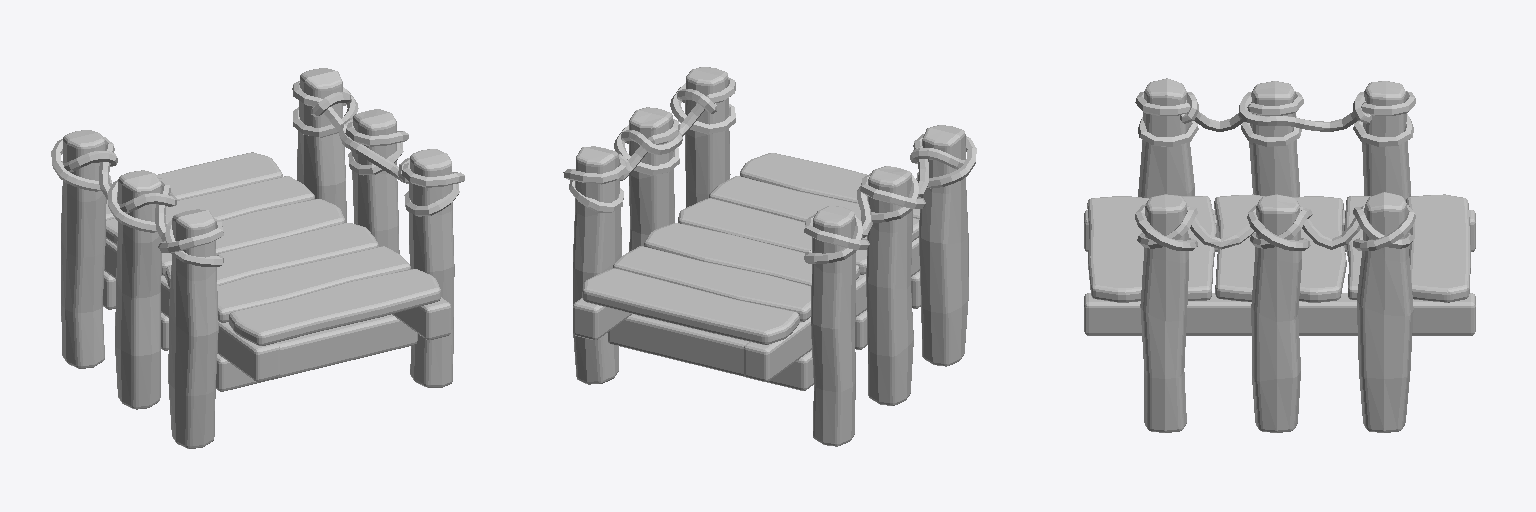
Rendered from SM_bridge.obj.
3 views of the same model, side by side, from view 1: azimuth 30°, elevation 25°; view 2: azimuth 150°, elevation 25°; view 3: azimuth 270°, elevation 25° (orthographic).
Visible parts, largest first — view 1: Cube.004, Cube.001, Cube.005, Cube.007, BézierCurve.001, BézierCurve.002, Cube.006; view 2: Cube.004, Cube.001, Cube.005, Cube.007, BézierCurve.001, BézierCurve.002, Cube.006; view 3: Cube.005, Cube.004, Cube.001, Cube.006, BézierCurve.002, BézierCurve.001.
Boxes of the visible parts, x1=… form: Cube.004: x1=106, y1=152, x2=440, y2=345; Cube.001: x1=61, y1=130, x2=218, y2=448; Cube.005: x1=297, y1=68, x2=454, y2=387; Cube.007: x1=103, y1=271, x2=417, y2=391; BézierCurve.001: x1=292, y1=81, x2=464, y2=216; BézierCurve.002: x1=51, y1=137, x2=223, y2=266; Cube.006: x1=104, y1=239, x2=450, y2=381; Cube.004: x1=582, y1=153, x2=919, y2=344; Cube.001: x1=811, y1=125, x2=968, y2=446; Cube.005: x1=573, y1=67, x2=730, y2=384; Cube.007: x1=608, y1=271, x2=920, y2=390; BézierCurve.001: x1=563, y1=77, x2=735, y2=212; BézierCurve.002: x1=804, y1=134, x2=976, y2=263; Cube.006: x1=573, y1=238, x2=919, y2=381; Cube.005: x1=1140, y1=192, x2=1413, y2=432; Cube.004: x1=1087, y1=194, x2=1470, y2=302; Cube.001: x1=1138, y1=78, x2=1410, y2=200; Cube.006: x1=1084, y1=210, x2=1475, y2=335; BézierCurve.002: x1=1135, y1=91, x2=1415, y2=146; BézierCurve.001: x1=1135, y1=204, x2=1415, y2=250.
Bounding box in the file's own units: 7.5 × 5.53 × 8.54.